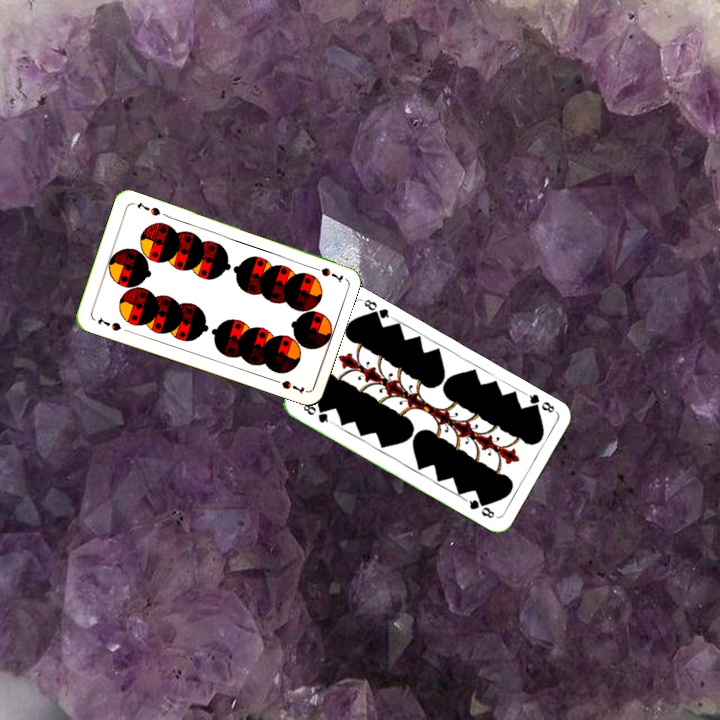G8: (521, 389, 559, 415), (299, 400, 335, 426)
S7: (306, 262, 346, 285), (94, 314, 124, 334)
